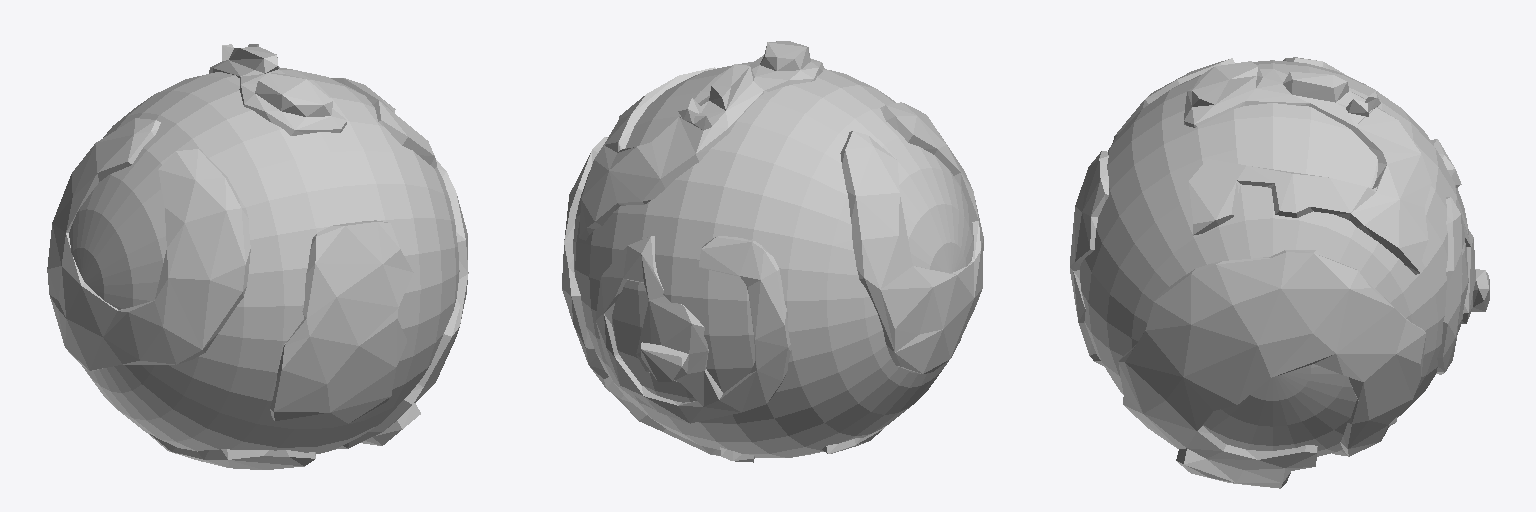
Rendered from planete_2.obj.
The picture shows the model from 3 angles: view 1: azimuth 30°, elevation 25°; view 2: azimuth 150°, elevation 25°; view 3: azimuth 270°, elevation 25°; orthographic projection.
Parts seen in each view (by area): view 1: Temperate1_Cube.055; view 2: Temperate1_Cube.055; view 3: Temperate1_Cube.055.
Boxes of the visible parts, x1,y1,x2,y2 form: Temperate1_Cube.055: [47, 44, 468, 469]; Temperate1_Cube.055: [562, 41, 983, 462]; Temperate1_Cube.055: [1070, 57, 1489, 488].
Bounding box in the file's own units: 1 × 0.9995 × 1.